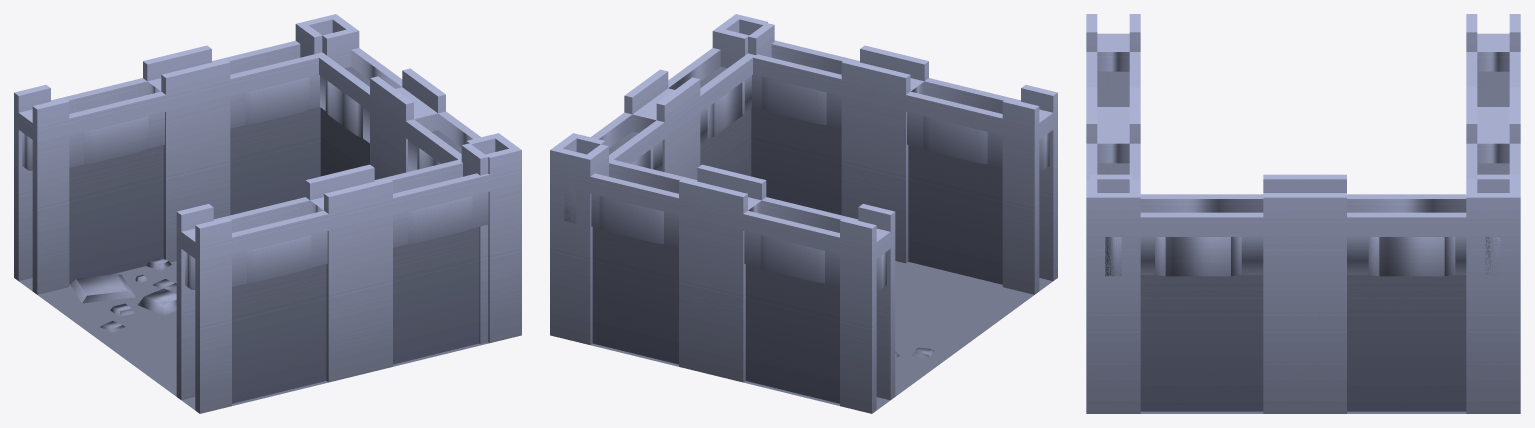
File: Tile_7.glb
3 renders of one model, left to right at view 1: azimuth 30°, elevation 25°; view 2: azimuth 150°, elevation 25°; view 3: azimuth 270°, elevation 25°, orthographic. The views are drawn at different scales.
Parts seen in each view (by area): view 1: tile_7; view 2: tile_7; view 3: tile_7.
Part boxes in pixels (x1,y1,x2,y2): tile_7: (14,14,521,413); tile_7: (550,14,1057,413); tile_7: (1086,14,1520,413).
Bounding box in the file's own units: 2 × 1.1 × 2.
10 materials, 10 textured.
